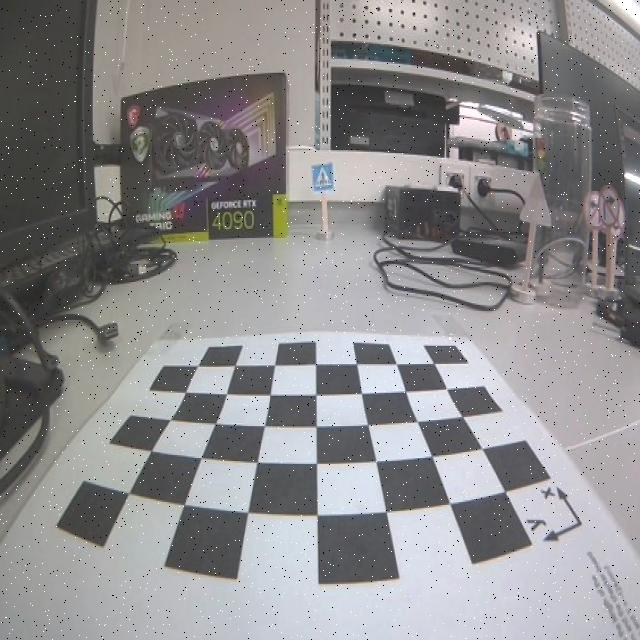Rambu Penyebrangan: (312, 163, 334, 191)
